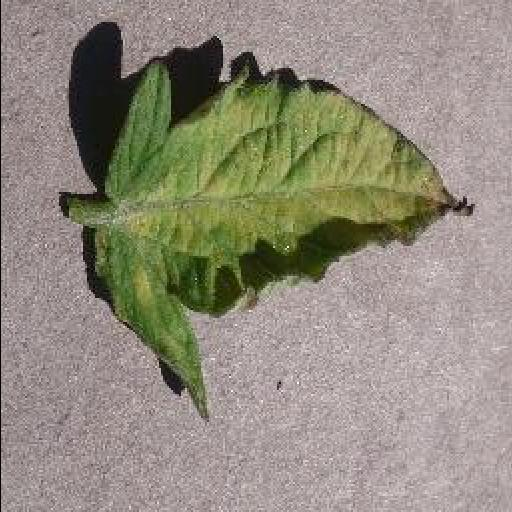disease_tomato: (90, 55, 478, 420)
